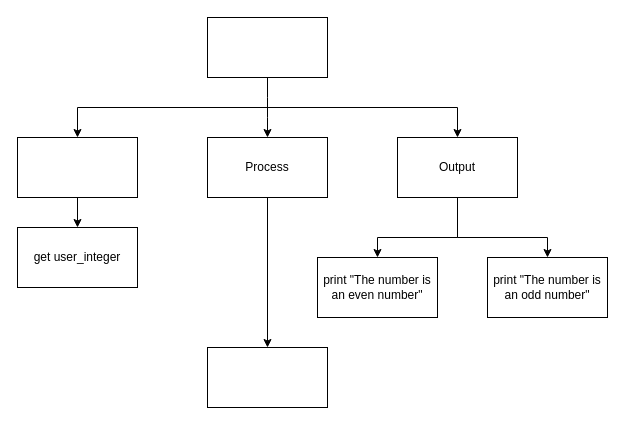
This 625x425 diagram has some shape labels left out. Here are the shapes that lost their labels. From the top down, the centre of each, then its label:
point 267,47: Assignment-4
point 77,167: Input
point 267,377: If user_integer == (%2)
